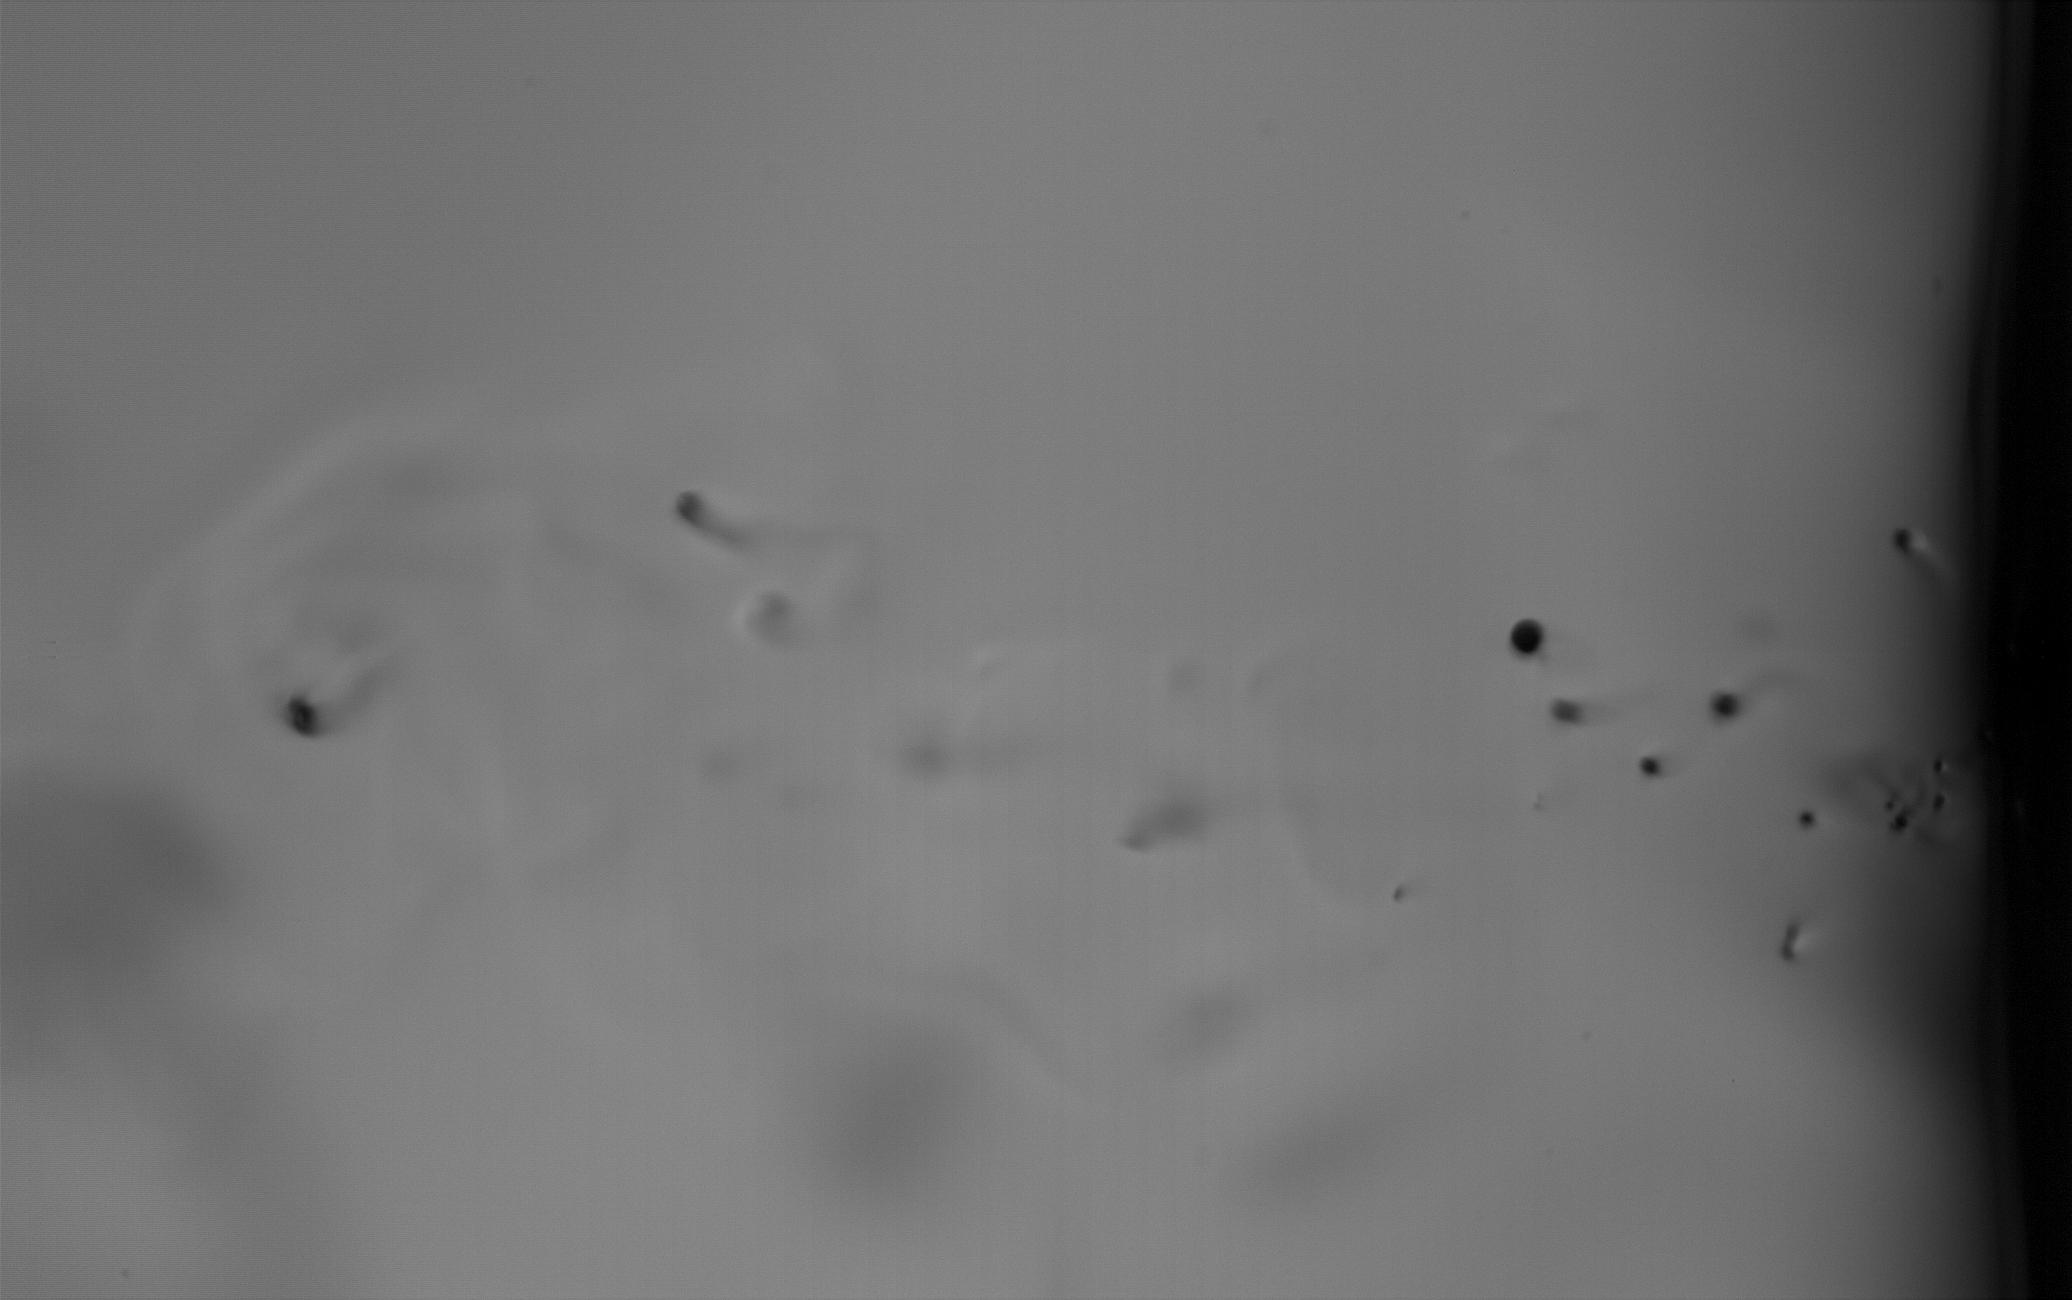Blurry: (885, 726, 954, 786)
ClassicalEvaporation: (1502, 613, 1550, 660), (1544, 689, 1588, 729), (1704, 681, 1744, 726), (1885, 521, 1919, 559), (1780, 911, 1803, 968), (1885, 800, 1915, 840), (1633, 750, 1666, 782), (1879, 789, 1904, 821), (1925, 792, 1951, 824), (1928, 746, 1949, 777), (1795, 809, 1819, 834)
DiffusiveMixing: (281, 675, 388, 741), (665, 485, 749, 553), (740, 592, 802, 654), (1527, 785, 1550, 828)
TransitionalMixing: (1115, 795, 1208, 860), (1385, 878, 1409, 912)
